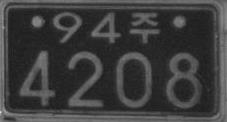0: (115, 51, 153, 108)
2: (66, 50, 105, 107)
4: (19, 50, 55, 106), (90, 10, 121, 44)
8: (165, 51, 203, 108)
9: (52, 10, 83, 43)
주: (129, 11, 159, 45)
